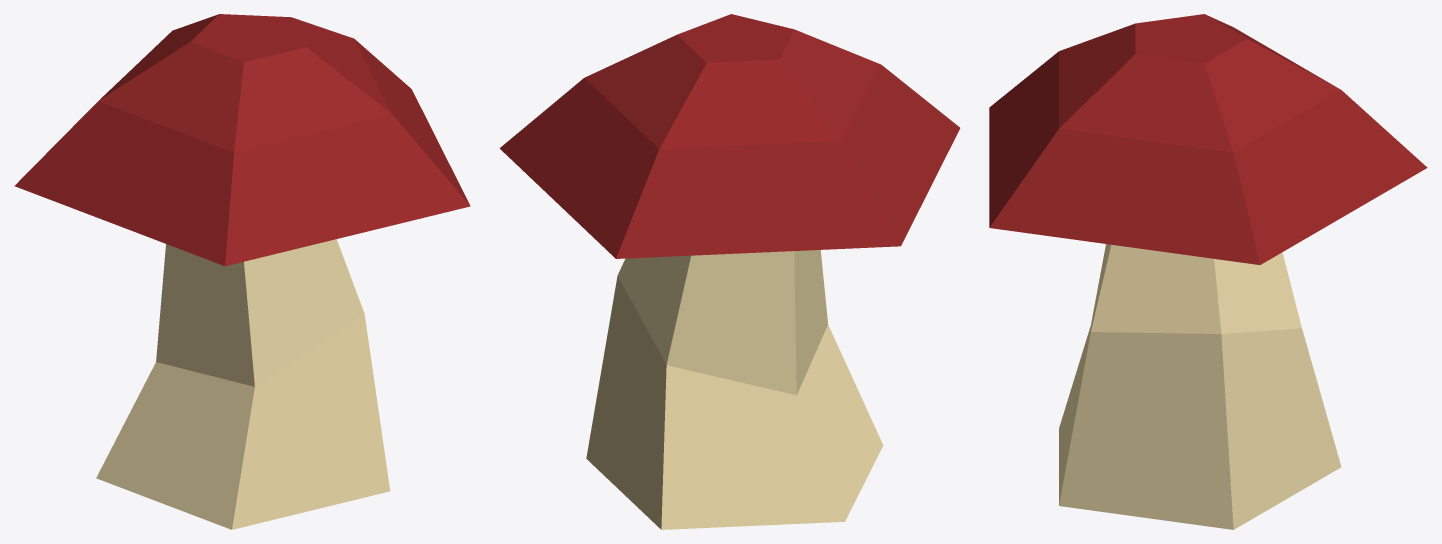
Rendered from YNFModels.fbx.
The picture shows the model from 3 angles, left to right: view 1: azimuth 30°, elevation 25°; view 2: azimuth 150°, elevation 25°; view 3: azimuth 270°, elevation 25°; orthographic projection.
Visible parts, largest first — view 1: Cylinder.004, Cylinder.001; view 2: Cylinder.004, Cylinder.001; view 3: Cylinder.004, Cylinder.001.
Boxes of the visible parts, x1,y1,x2,y2 form: Cylinder.004: (14,14,470,266); Cylinder.001: (96,239,390,529); Cylinder.004: (499,14,960,258); Cylinder.001: (586,250,883,529); Cylinder.004: (989,14,1427,264); Cylinder.001: (1059,244,1341,529).
Size of the model in its own units: 295 by 303 by 281.
